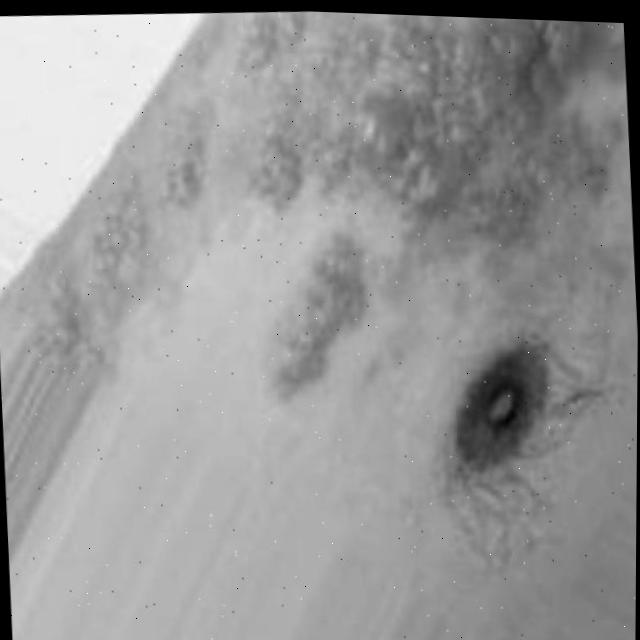Shingles: (60, 2, 640, 414)
